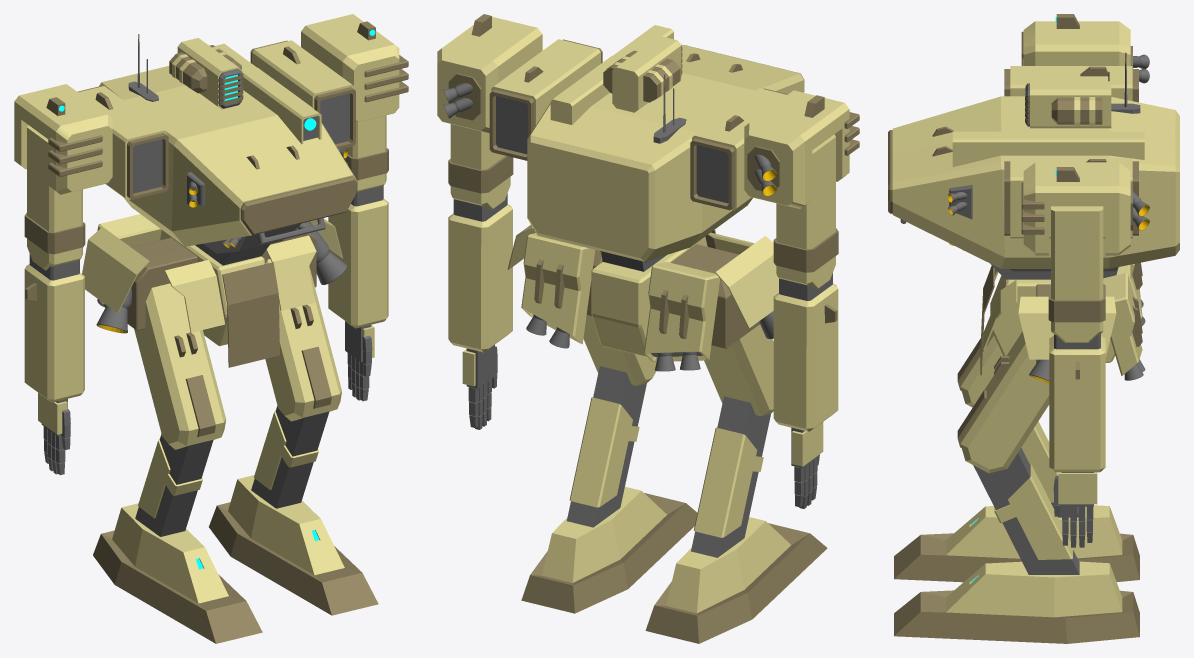
The model's file is mech 'Trooper'.fbx.
3 renders of one model, left to right at view 1: azimuth 30°, elevation 25°; view 2: azimuth 150°, elevation 25°; view 3: azimuth 270°, elevation 25°, orthographic. The views are drawn at different scales.
Visible parts, largest first — view 1: pasted__pCube68, pCube47, pCube48, pCube37, pasted__pCube45, pasted__pCube70, pasted__pCube53, pasted__pCube42, pasted__pCube66, pasted__pCube52, pasted__pCube69, pCube31 (+23 smaller); view 2: pasted__pCube68, pCube48, pCube47, pasted__pCube70, pasted__pCube45, pasted__pCube53, pasted__pCube69, pasted__pCube66, pasted__pCube42, pasted__pCube52, pCube39, pCube43 (+18 smaller); view 3: pasted__pCube68, pCube47, pCube48, pasted__pCube70, pasted__pCube56, pasted__pCube42, pCube31, pasted__pCube28, pasted__pCube53, pCube33, pCube32, pasted__pCube52 (+13 smaller).
Part boxes in pixels (bbox=[...]): pasted__pCube68: bbox=[99, 66, 356, 246]; pCube47: bbox=[209, 475, 378, 615]; pCube48: bbox=[93, 503, 262, 643]; pCube37: bbox=[134, 283, 226, 449]; pasted__pCube45: bbox=[24, 254, 84, 402]; pasted__pCube70: bbox=[328, 186, 388, 328]; pasted__pCube53: bbox=[14, 84, 112, 194]; pasted__pCube42: bbox=[301, 14, 399, 122]; pasted__pCube66: bbox=[24, 125, 85, 270]; pasted__pCube52: bbox=[77, 86, 168, 200]; pasted__pCube69: bbox=[250, 40, 355, 148]; pCube31: bbox=[265, 259, 341, 421]; pasted__pCube68: bbox=[527, 44, 804, 261]; pCube48: bbox=[645, 517, 827, 643]; pCube47: bbox=[521, 486, 697, 613]; pasted__pCube70: bbox=[448, 193, 512, 352]; pasted__pCube45: bbox=[773, 273, 838, 431]; pasted__pCube53: bbox=[744, 90, 849, 208]; pasted__pCube69: bbox=[489, 39, 602, 160]; pasted__pCube66: bbox=[773, 134, 838, 290]; pasted__pCube42: bbox=[437, 16, 542, 133]; pasted__pCube52: bbox=[690, 88, 787, 210]; pCube39: bbox=[644, 262, 719, 361]; pCube43: bbox=[521, 233, 595, 344]; pasted__pCube68: bbox=[888, 96, 1179, 268]; pCube47: bbox=[894, 561, 1139, 643]; pCube48: bbox=[894, 505, 1139, 582]; pasted__pCube70: bbox=[1049, 334, 1105, 472]; pasted__pCube56: bbox=[1048, 206, 1105, 342]; pasted__pCube42: bbox=[1023, 162, 1130, 255]; pCube31: bbox=[960, 331, 1049, 473]; pasted__pCube28: bbox=[952, 131, 1144, 166]; pasted__pCube53: bbox=[1023, 21, 1130, 65]; pCube33: bbox=[994, 464, 1072, 559]; pCube32: bbox=[973, 448, 1079, 574]; pasted__pCube52: bbox=[1004, 66, 1138, 102].
Bounding box in the file's own units: 18.08 × 24.79 × 12.57.
